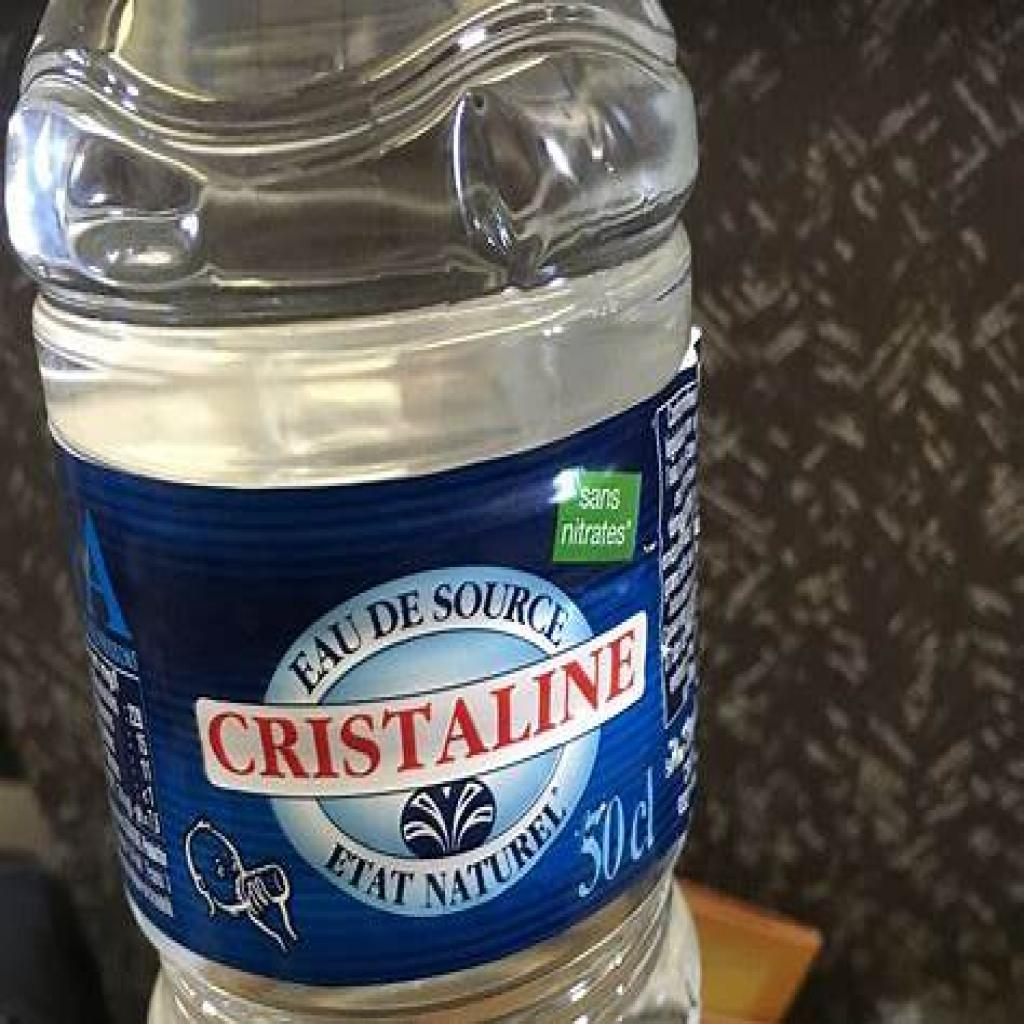plastic: (7, 8, 736, 1021)
